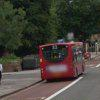Bus: (35, 39, 86, 81)
